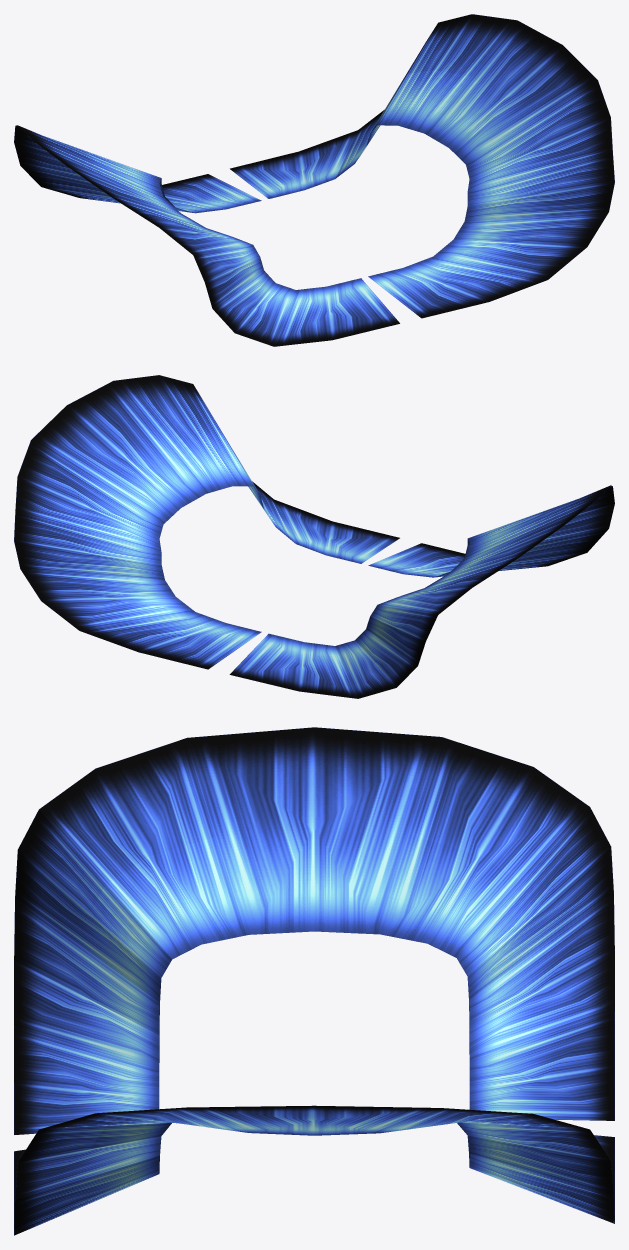
The model's file is xiangguang.FBX.
3 views of the same model, one above another, from view 1: azimuth 30°, elevation 25°; view 2: azimuth 150°, elevation 25°; view 3: azimuth 270°, elevation 25° (orthographic). The views are drawn at different scales.
Visible parts, largest first — view 1: 对象003; view 2: 对象003; view 3: 对象003.
Boxes of the visible parts, x1,y1,x2,y2 form: 对象003: [14, 14, 614, 346]; 对象003: [14, 375, 614, 698]; 对象003: [14, 727, 614, 1235].
Size of the model in its own units: 2.19 by 0.6113 by 1.47.
